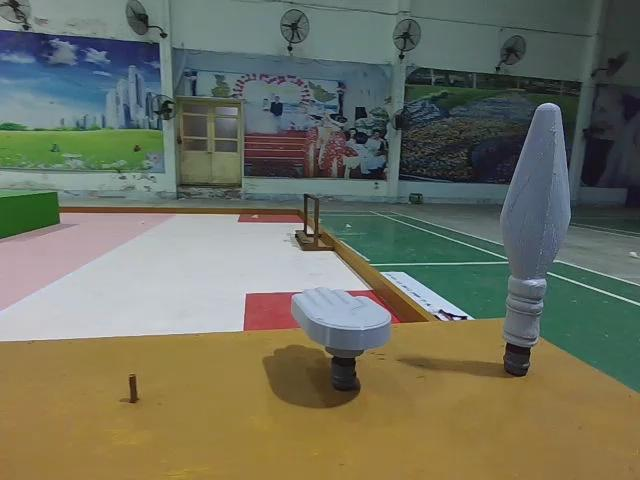Hand: (291, 286, 393, 395)
Sph: (496, 92, 577, 380)
